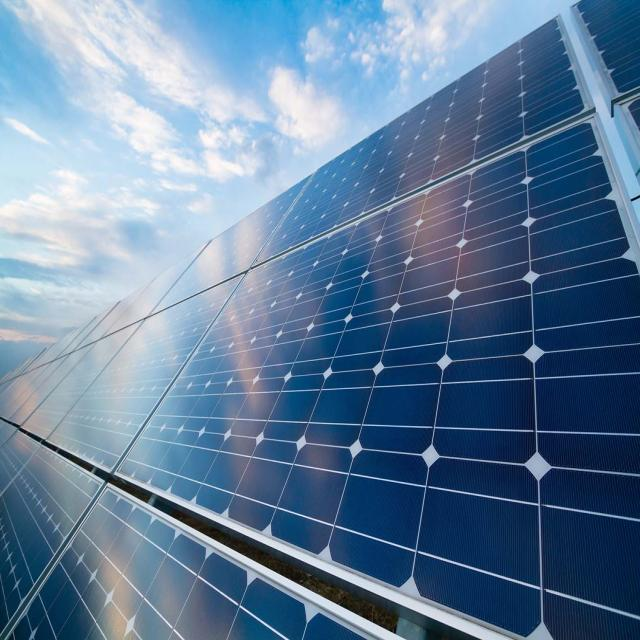clean-solar-panel: (0, 19, 640, 638)
